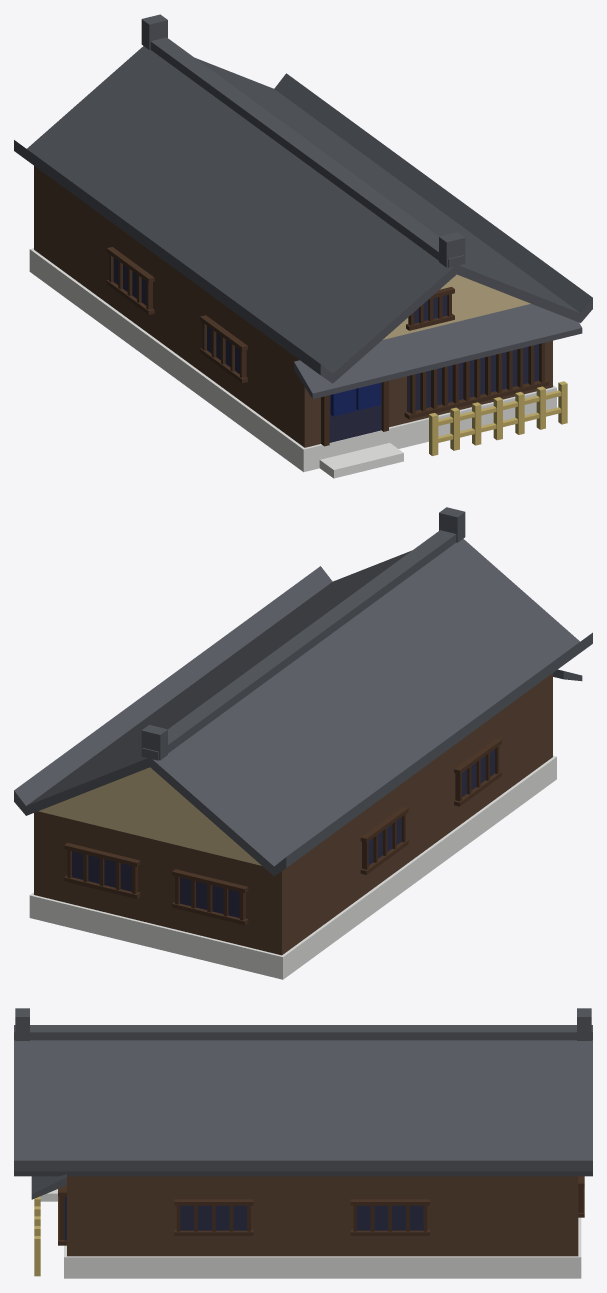
The model's file is house-1x2-1f-machiya-a.glb.
3 views of the same model, one above another, from view 1: azimuth 30°, elevation 25°; view 2: azimuth 150°, elevation 25°; view 3: azimuth 270°, elevation 25° (orthographic). The views are drawn at different scales.
Visible parts, largest first — view 1: house-1x2-1f-machiya-a; view 2: house-1x2-1f-machiya-a; view 3: house-1x2-1f-machiya-a.
Part boxes in pixels (x1,y1,x2,y2): house-1x2-1f-machiya-a: (14,14,592,478); house-1x2-1f-machiya-a: (14,507,592,979); house-1x2-1f-machiya-a: (14,1008,592,1278).
Bounding box in the file's own units: 1.01 × 0.78 × 1.97.
Materials: 1 (1 with a texture image).
